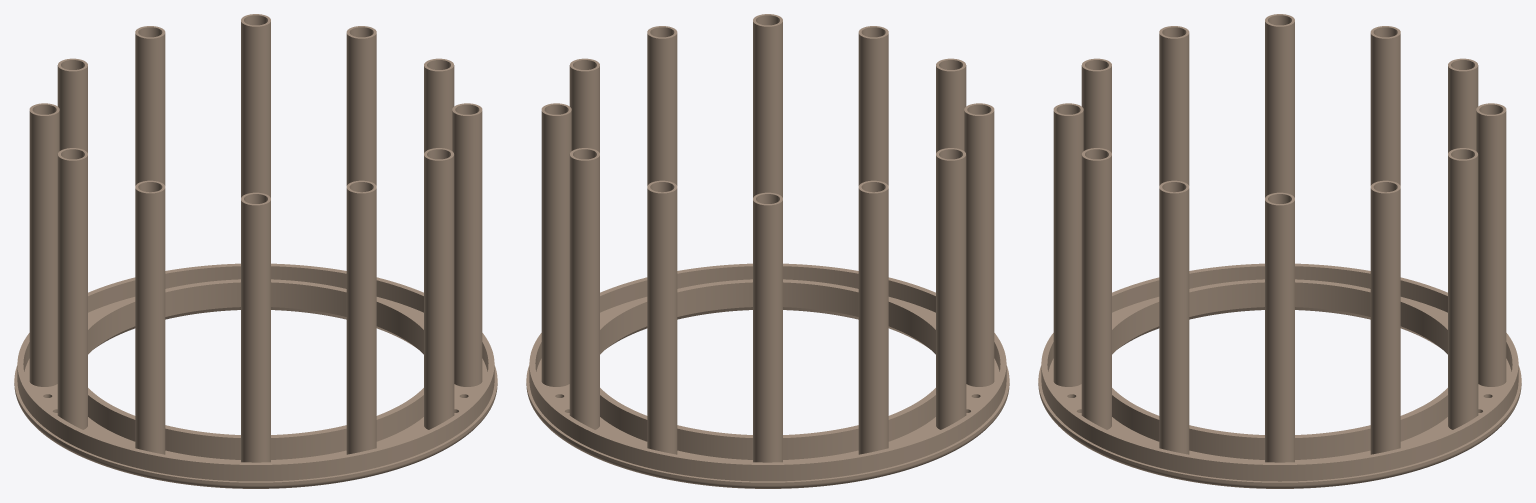
File: modal6.fbx
3 renders of one model, left to right at view 1: azimuth 30°, elevation 25°; view 2: azimuth 150°, elevation 25°; view 3: azimuth 270°, elevation 25°, orthographic.
Visible parts, largest first — view 1: 拉伸-薄壁1 (×12), 倒角1; view 2: 拉伸-薄壁1 (×12), 倒角1; view 3: 拉伸-薄壁1 (×12), 倒角1.
Part boxes in pixels (x1,y1,x2,y2): 拉伸-薄壁1 (×12): [29, 14, 482, 462]; 倒角1: [14, 263, 497, 488]; 拉伸-薄壁1 (×12): [541, 14, 994, 462]; 倒角1: [526, 263, 1009, 488]; 拉伸-薄壁1 (×12): [1053, 14, 1506, 462]; 倒角1: [1038, 263, 1521, 488].
Size of the model in its own units: 8 by 5.1 by 8.
